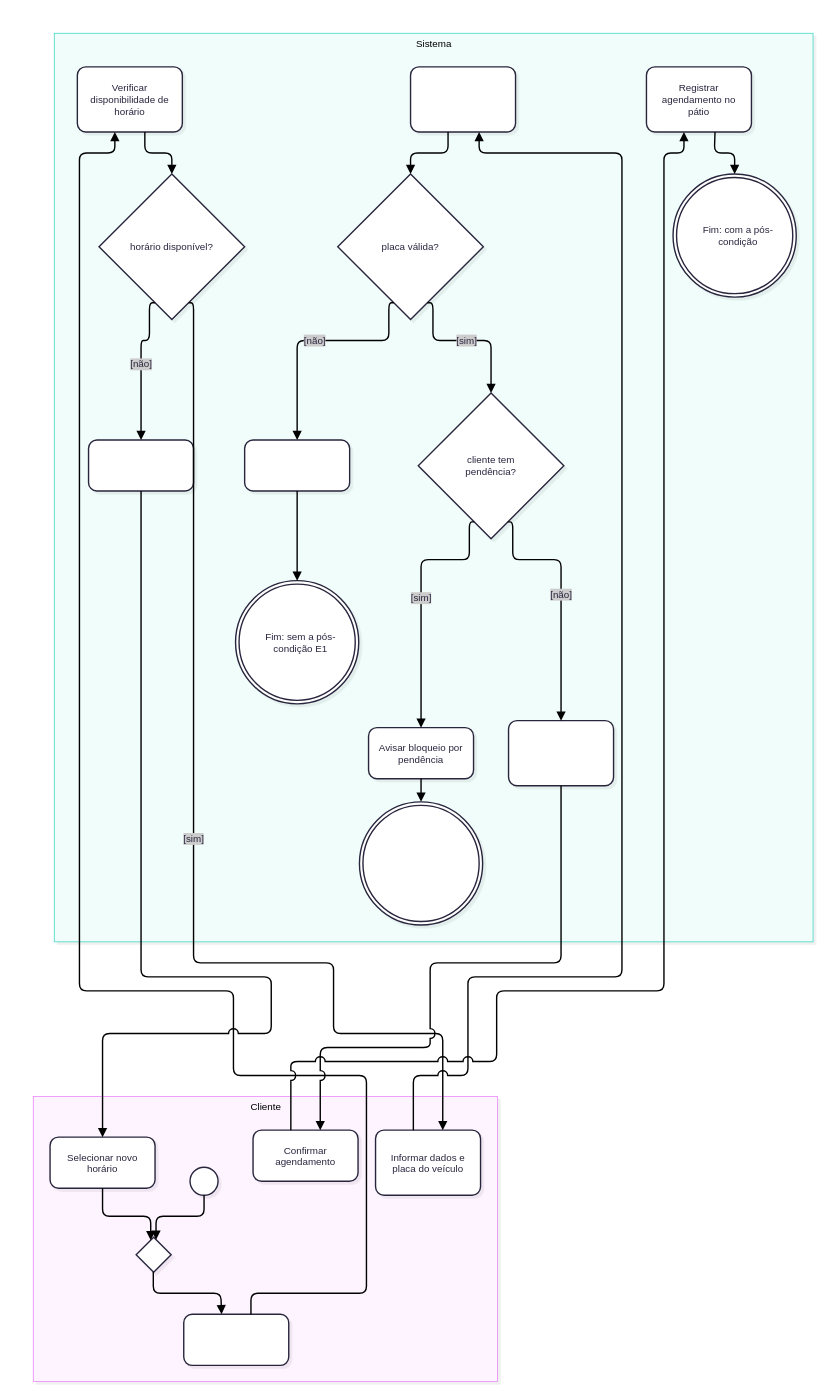
The diagram is 828 pixels wide and 1397 high, and some of its shapes have lost their labels. The shapes that lost their labels are listed below. From the top down, each one's centre as x and y in pixels, then its label:
the point at 464,100: Validar placa e verificar pendências
the point at 142,466: Sugerir novo horário
the point at 298,466: Avisar placa inválida
the point at 562,754: Calcular previsão de entrega
the point at 422,864: Fim: sem a pós-condição E2
the point at 237,1340: Escolher o serviço
